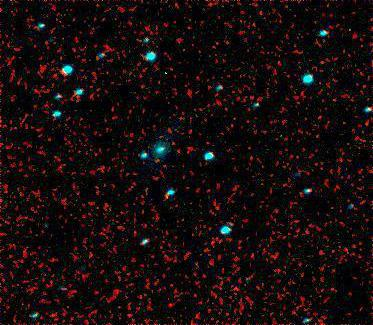star: (266, 123, 296, 153)
